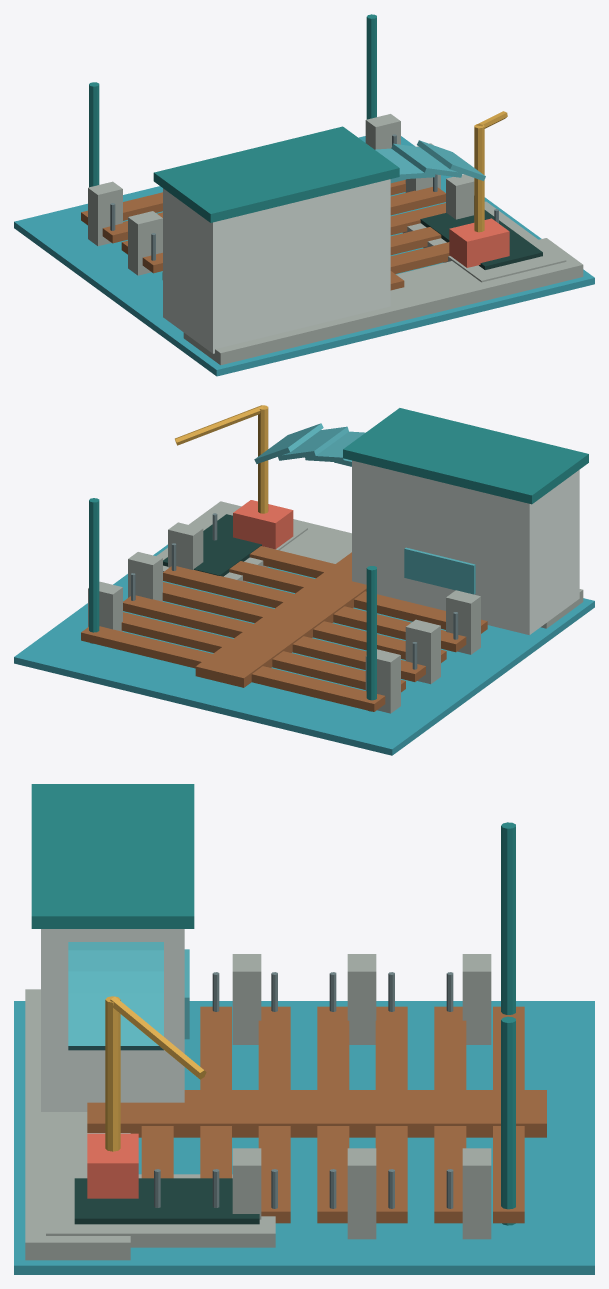
The model's file is marina_lv4.glb.
3 views of the same model, one above another, from view 1: azimuth 30°, elevation 25°; view 2: azimuth 150°, elevation 25°; view 3: azimuth 270°, elevation 25° (orthographic). The views are drawn at different scales.
Parts seen in each view (by area): view 1: rough, glossy, metallic; view 2: rough, glossy, metallic; view 3: rough, glossy, metallic.
Boxes of the visible parts, box(x1,y1,x2,y2) form: rough: box(81, 14, 583, 365); glossy: box(14, 136, 594, 376); metallic: box(110, 134, 498, 260); rough: box(81, 405, 588, 713); glossy: box(14, 423, 594, 755); metallic: box(131, 513, 458, 669); rough: box(25, 784, 546, 1260); glossy: box(14, 942, 594, 1274); metallic: box(154, 972, 453, 1208).
Bounding box in the file's own units: 9.8 × 3.91 × 9.1.
